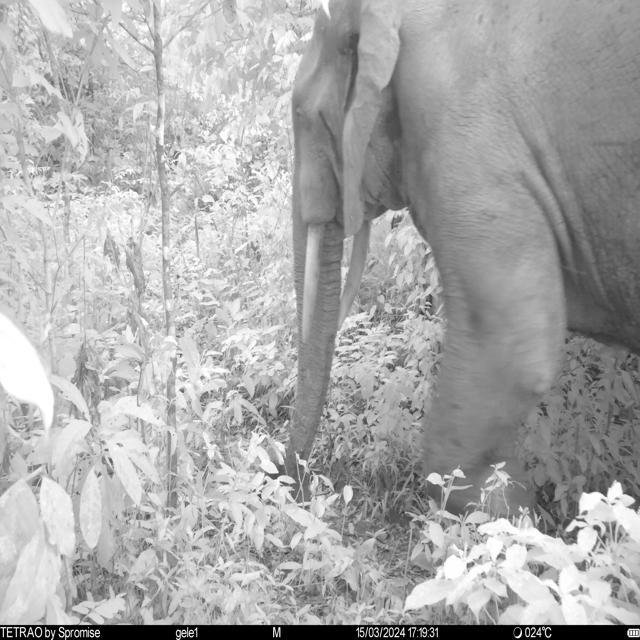ear: (341, 1, 401, 236)
elephant: (280, 0, 640, 522)
tusk: (336, 221, 372, 330), (301, 222, 326, 346)
